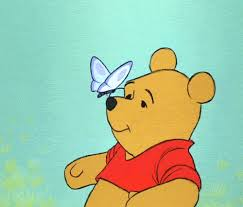Winnie: (86, 44, 213, 178)
